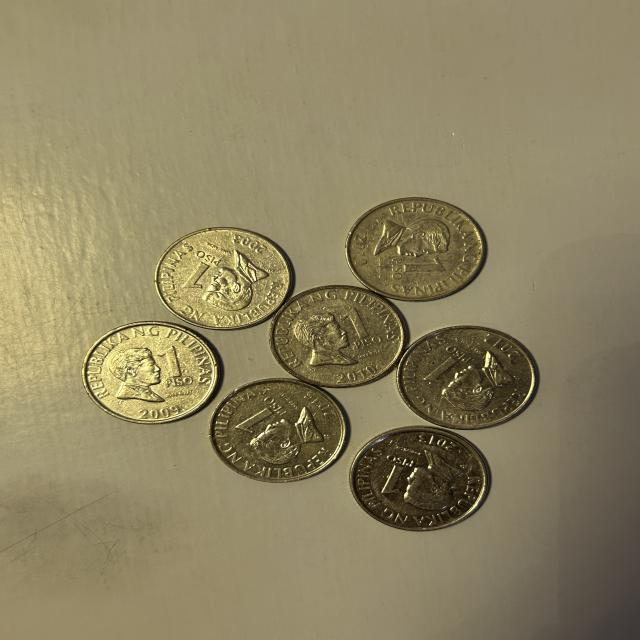1_Old_Front: (150, 343, 208, 394), (330, 304, 385, 354), (372, 451, 422, 501), (412, 346, 468, 389), (237, 396, 296, 435), (383, 256, 449, 290), (179, 248, 222, 298)
